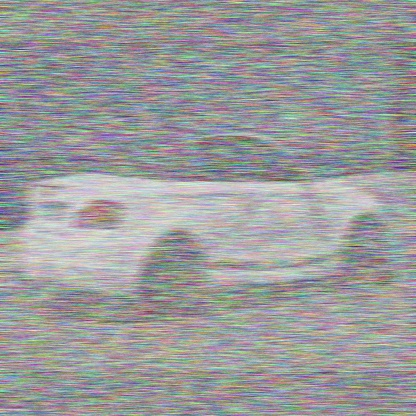Vehicle: (20, 131, 390, 326)
